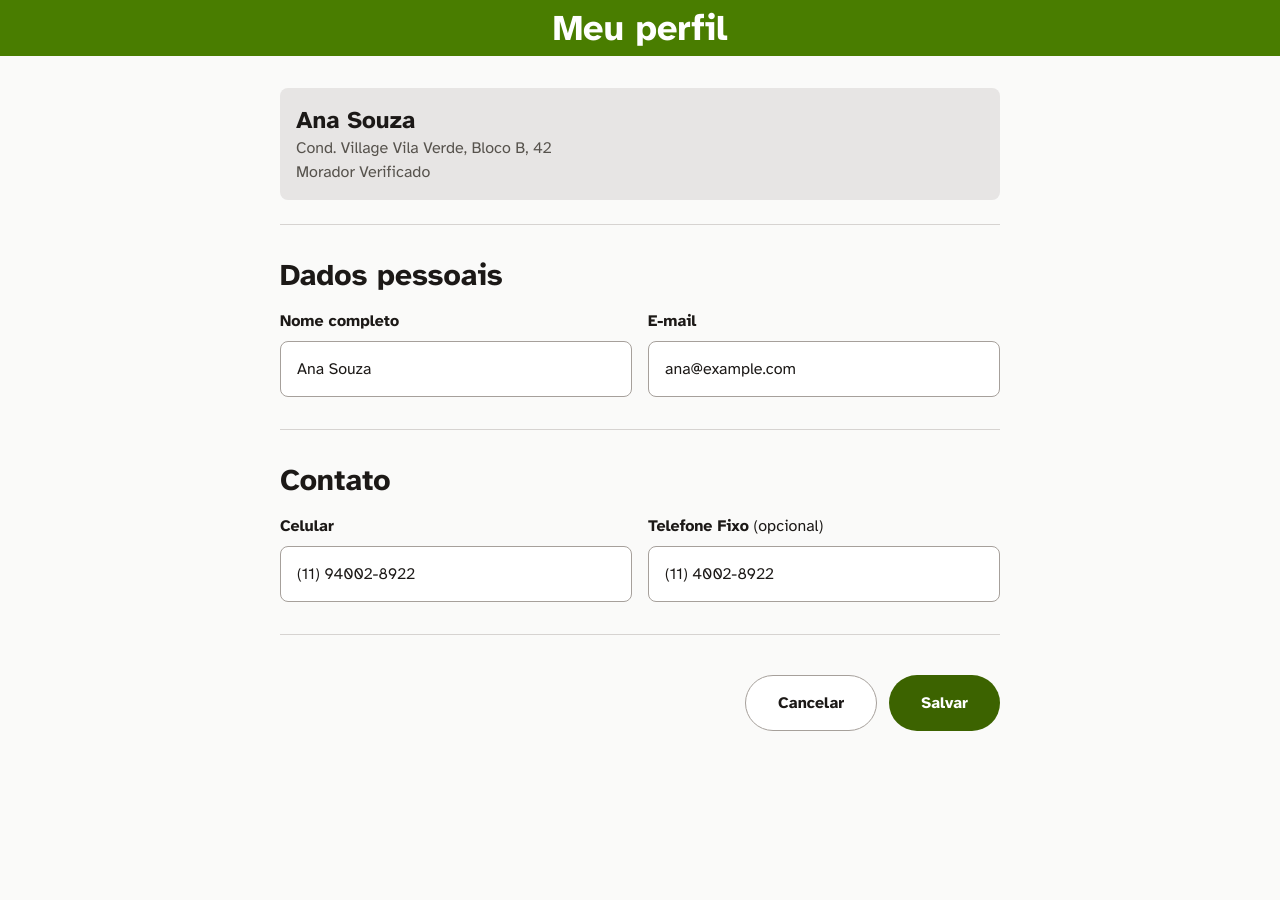
MyProfile › shows the saved name in the card after saving
The image size is (1280, 900).
Replace the text in the field labelled "Nome completo" with "Ana Souza Lima" at (456, 369), box [280, 341, 632, 397]
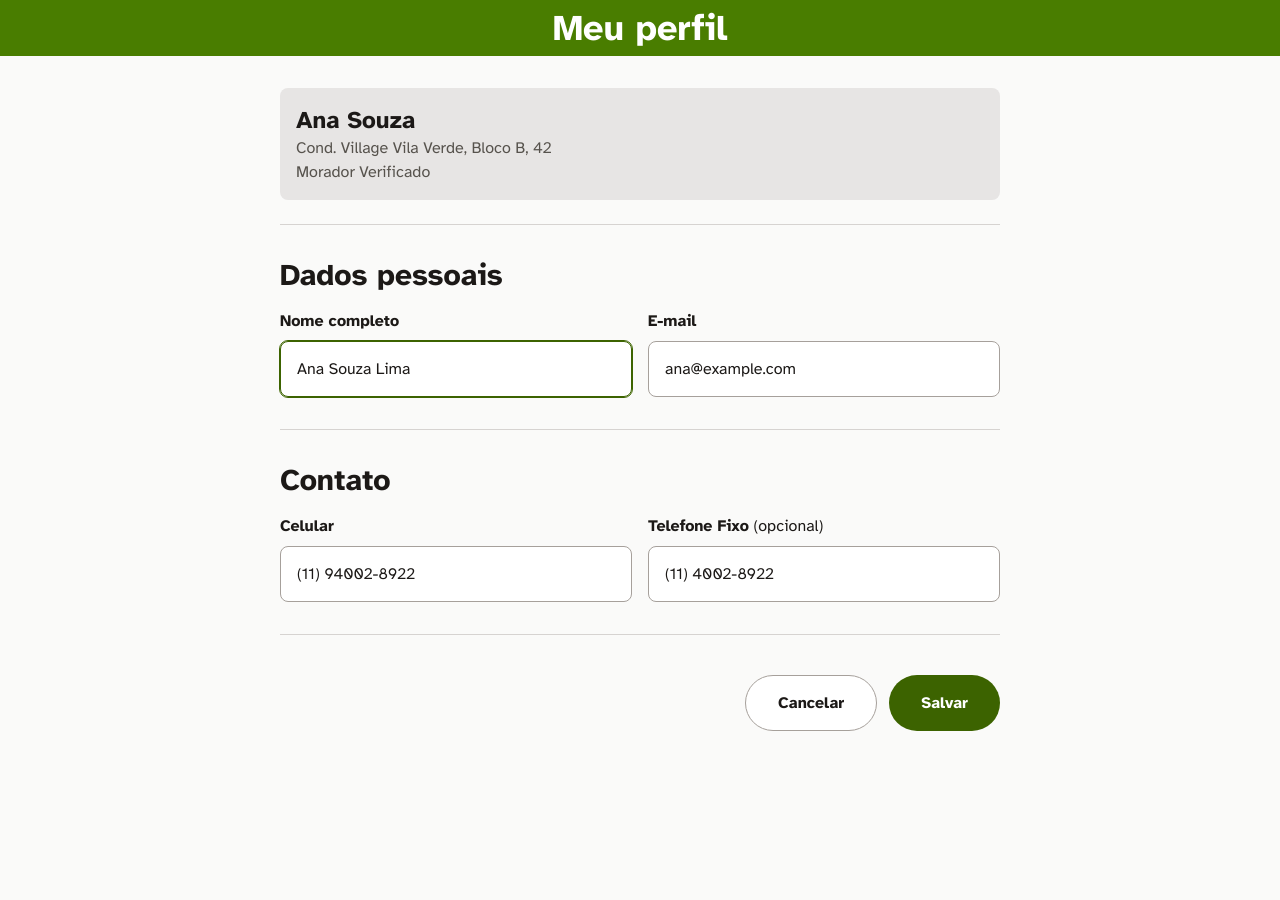
Click the button "Salvar" at (945, 703), box [889, 675, 1000, 731]
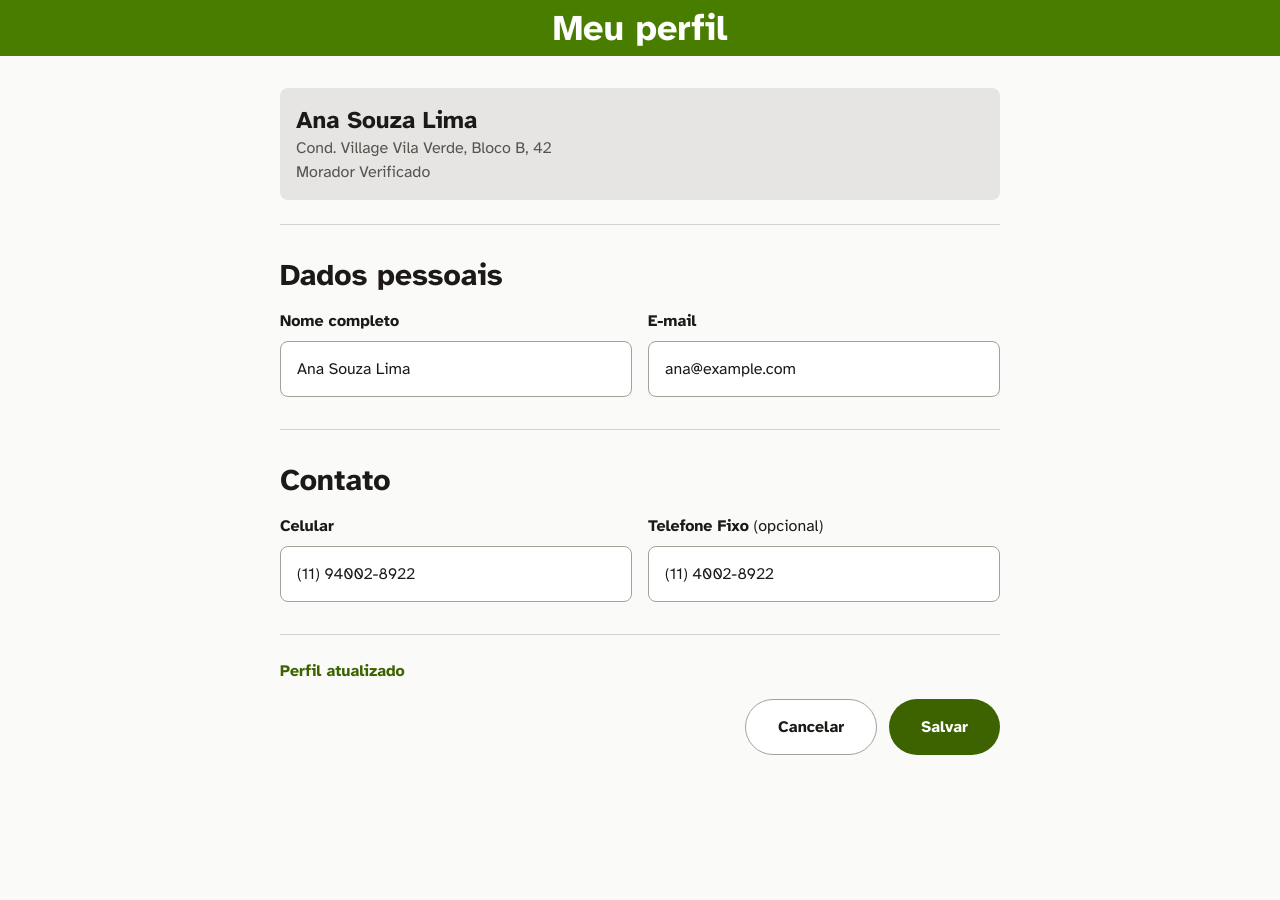
Expected: the text "Perfil atualizado" is shown, [280, 661, 405, 681]
Expected: the text "Ana Souza Lima" is shown, [296, 105, 477, 135]
